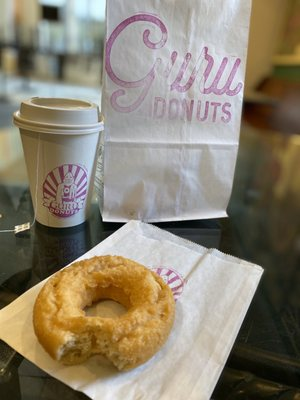burger: (99, 0, 252, 226)
salad: (33, 254, 176, 372)
